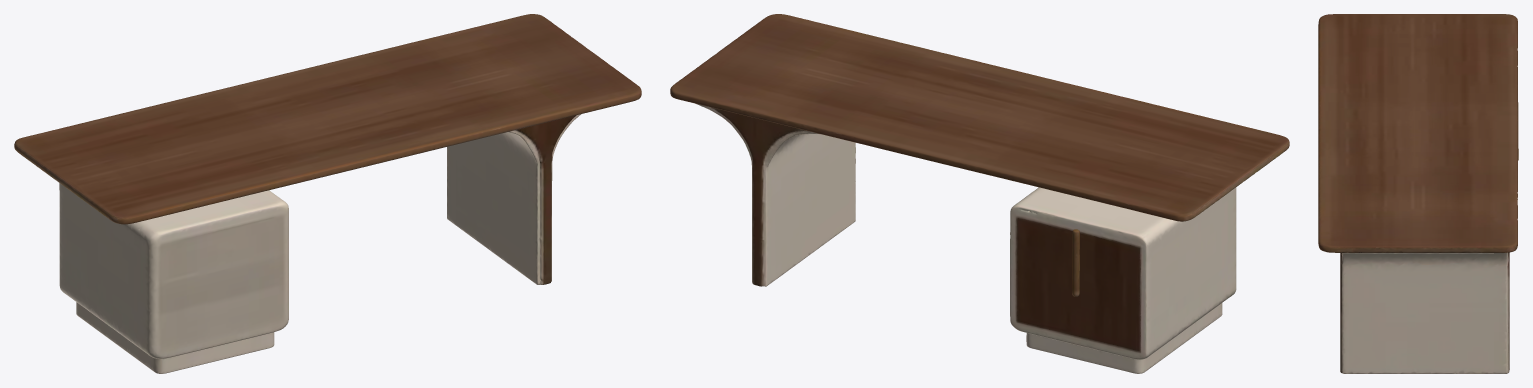
3 views of the same model, side by side, from view 1: azimuth 30°, elevation 25°; view 2: azimuth 150°, elevation 25°; view 3: azimuth 270°, elevation 25° (orthographic). The views are drawn at different scales.
Visible parts, largest first — view 1: world; view 2: world; view 3: world.
Boxes of the visible parts, box(x1,y1,x2,y2) form: world: box(14, 14, 641, 373); world: box(670, 14, 1289, 373); world: box(1318, 14, 1518, 373).
Bounding box in the file's own units: 1 × 0.3279 × 0.363.
Materials: 1 (1 with a texture image).
